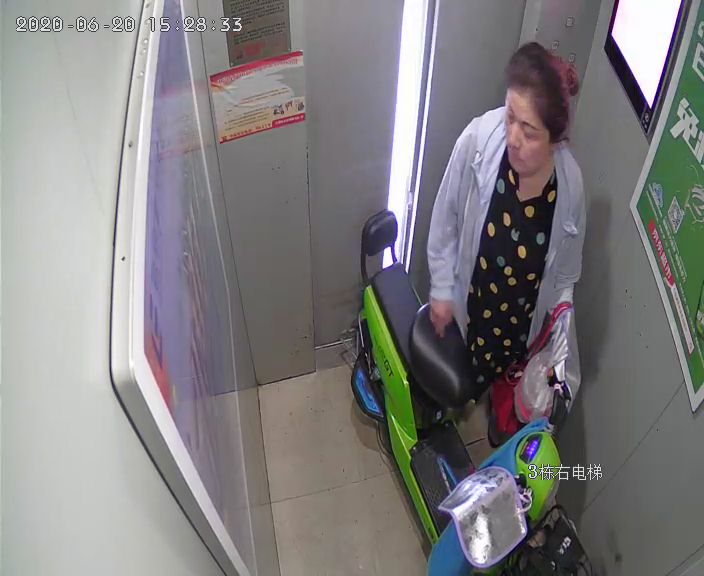Electric-bicycle: (340, 207, 586, 573)
